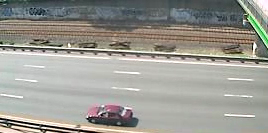car: (85, 101, 137, 127)
